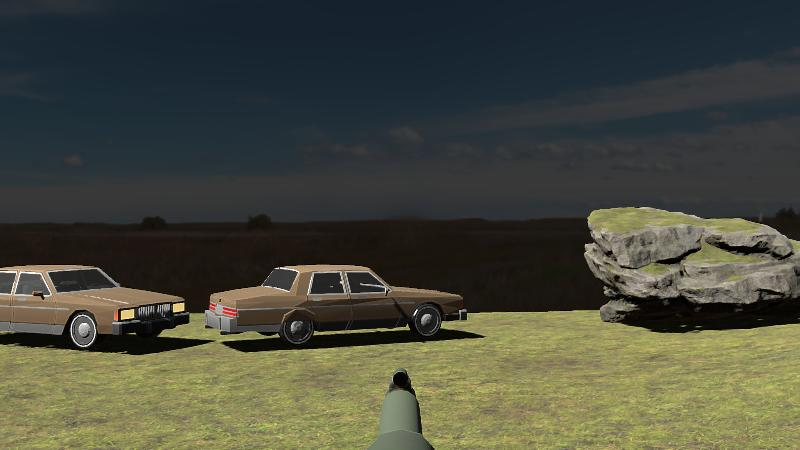car: (205, 263, 470, 346), (0, 263, 192, 351)
